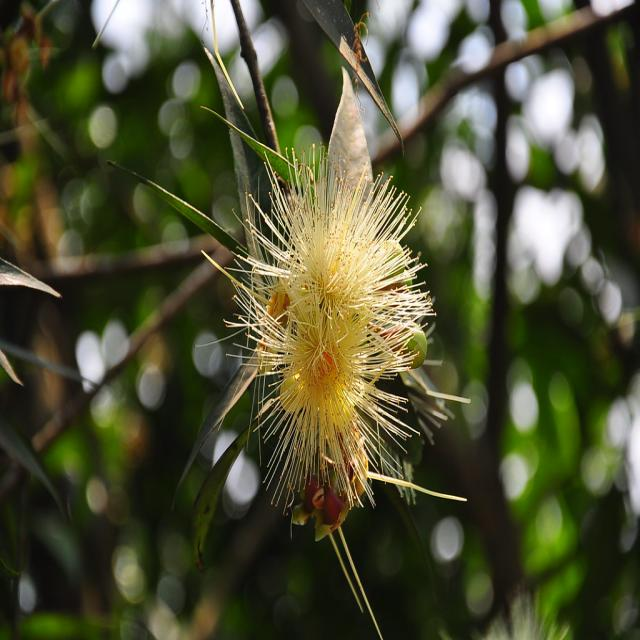Medicinal-Rose Apple: (2, 0, 639, 640)
